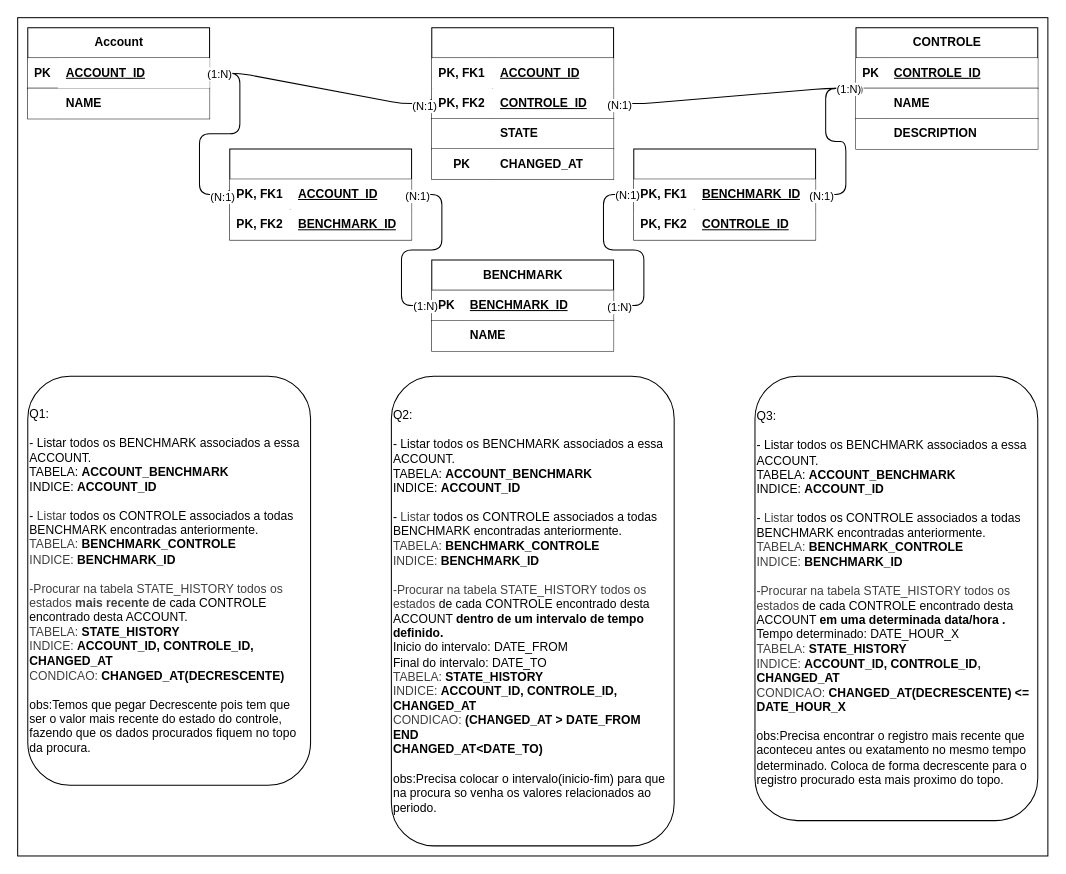
This 1066x874 diagram has some shape labels left out. Here are the shapes that lost their labels. From the top down, the box of each, then its label:
(431, 27, 614, 179): STATE_HISTORY
(229, 148, 412, 240): ACCOUNT_BENCHMARK
(633, 148, 816, 240): BENCHMARK_CONTROLE
